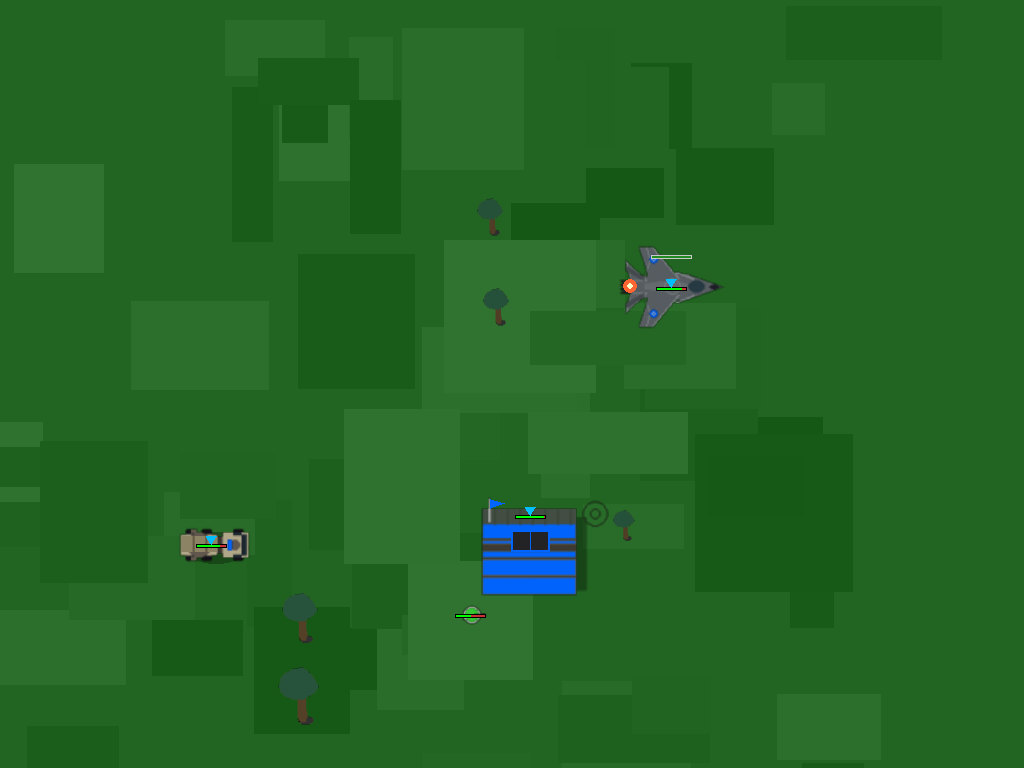Barracks: (472, 456, 587, 571)
FighterJet_usa: (644, 259, 697, 312)
HIMARS: (179, 511, 242, 574)
Rifleman: (452, 595, 488, 631)
